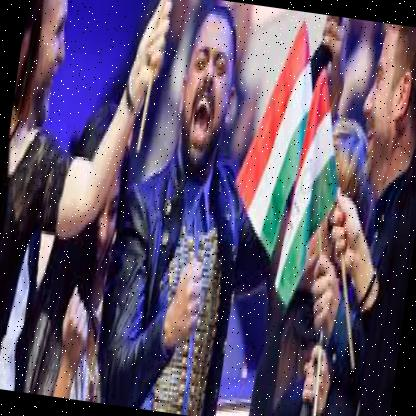hu: (224, 15, 322, 266), (273, 64, 358, 316)
